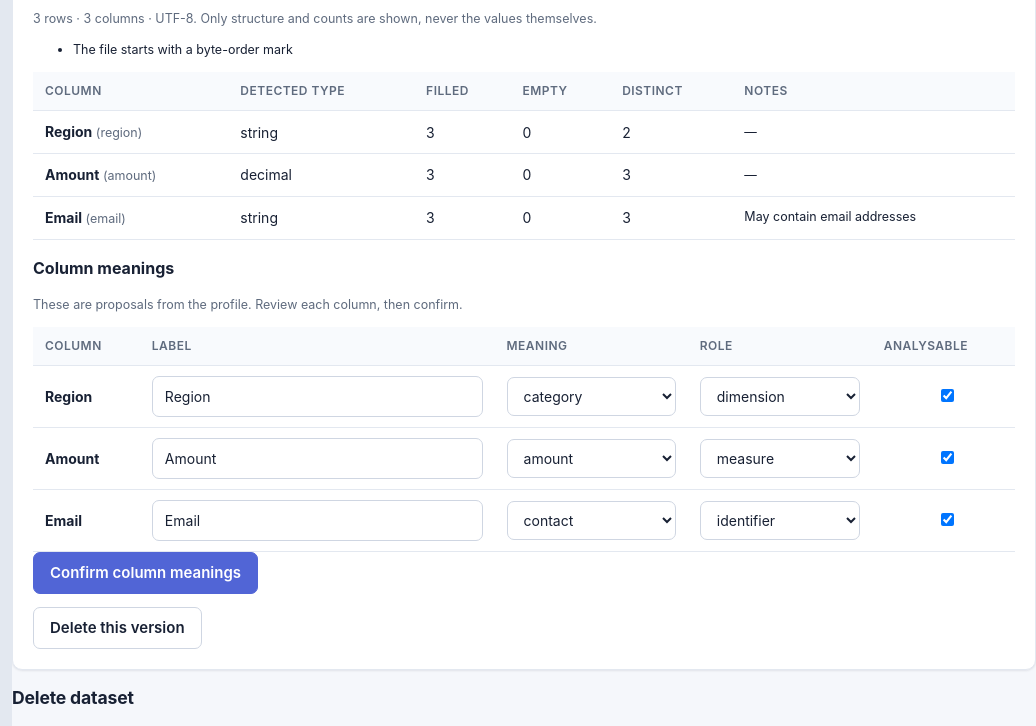
Test: Version panel › keeps the confirmation announced after the new revision is fetched
This screenshot has width=1036, height=726.
(page scrolled)
Step 1. Click the button "Confirm column meanings" → (146, 573), box [33, 552, 258, 594]
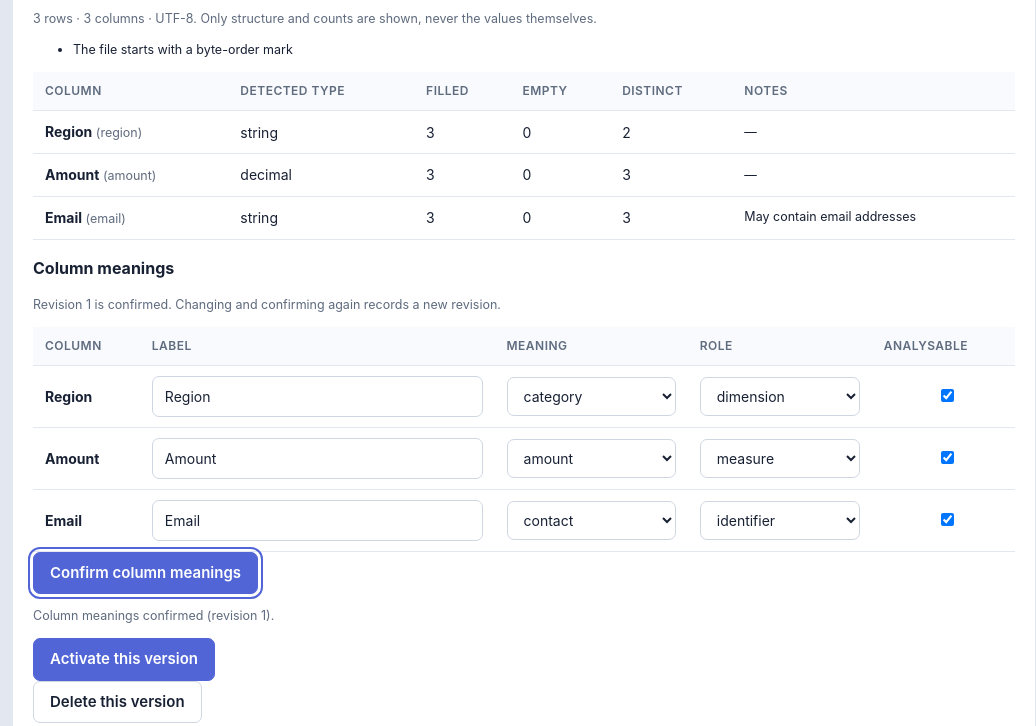
Now the form with test id "semantics-form" shows "Column meanings confirmed (revision 1).", box [33, 608, 274, 623]
